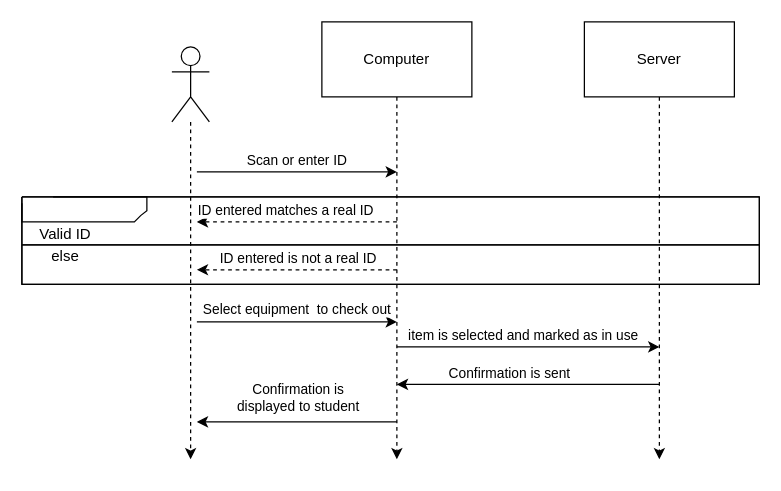
Some shapes in this 781 by 491 pixel diagram are drawn without their labels. Each missing label, with the centre of its shape:
Alternate: the point at 84,209
Student: the point at 190,84
